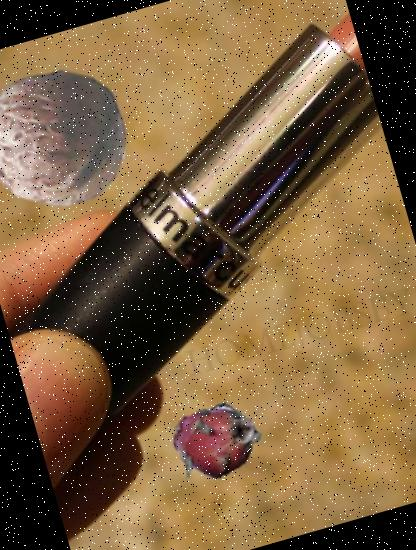Pitahaya: (160, 383, 275, 498)
Walnut: (0, 48, 144, 226)
